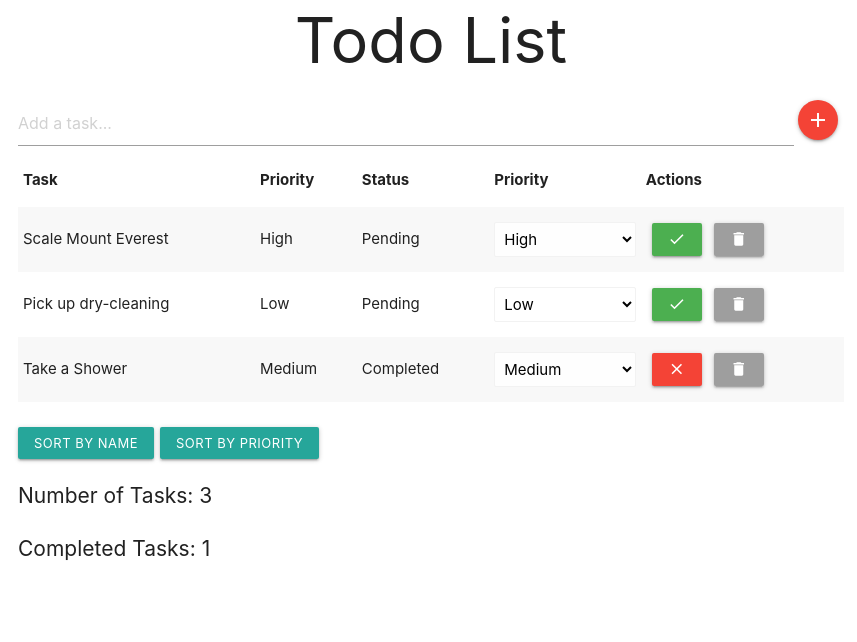
Test case: App › should display the correct number of tasks when tasks are updated
Type "Go to the gym" into the field with id "task-item" at coordinates (406, 124), box [18,100,794,146]
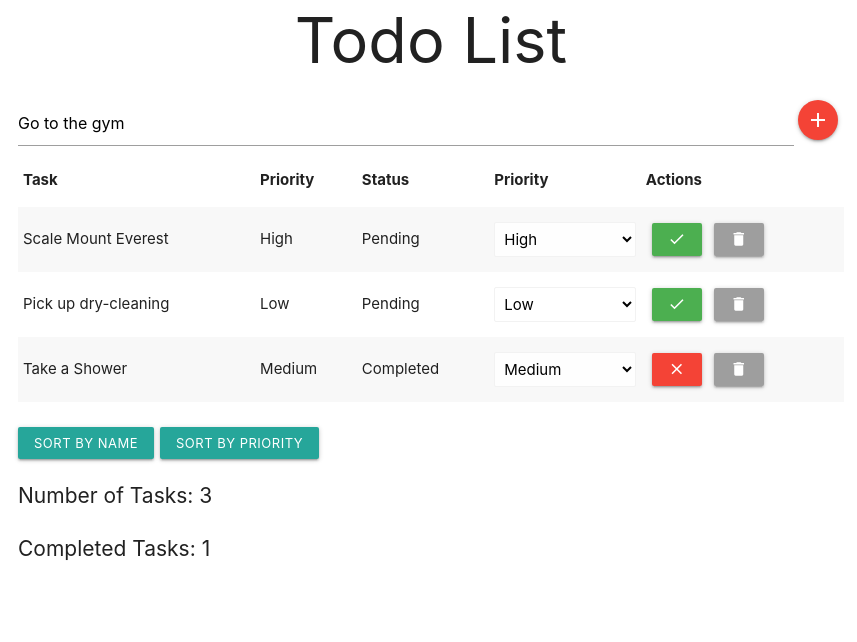
Click the button with id "add-task" at coordinates (818, 120), box [798,100,838,140]
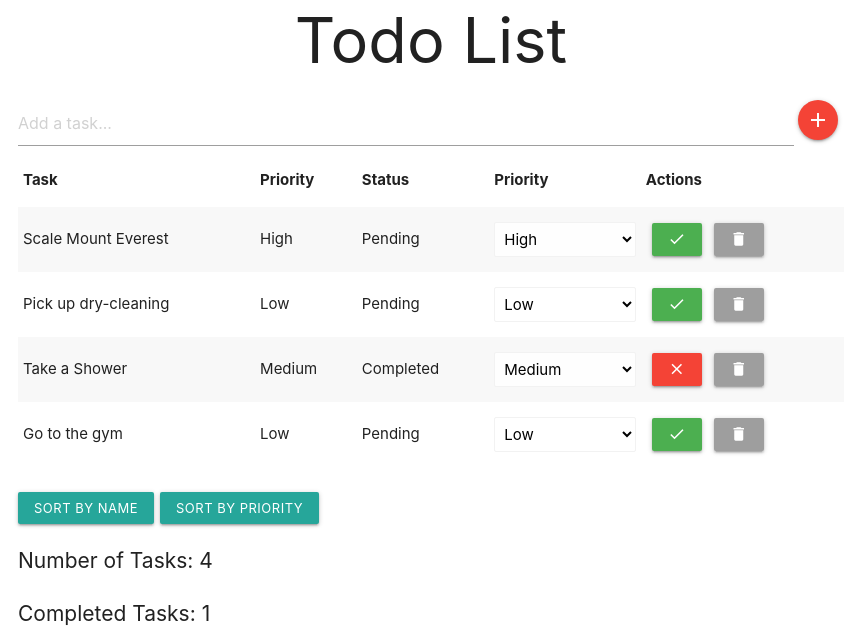
Expected: the text "Completed Tasks: 1" is shown, [18,601,210,626]
Result: the text "Number of Tasks: 4" is shown at [18,548,213,573]
